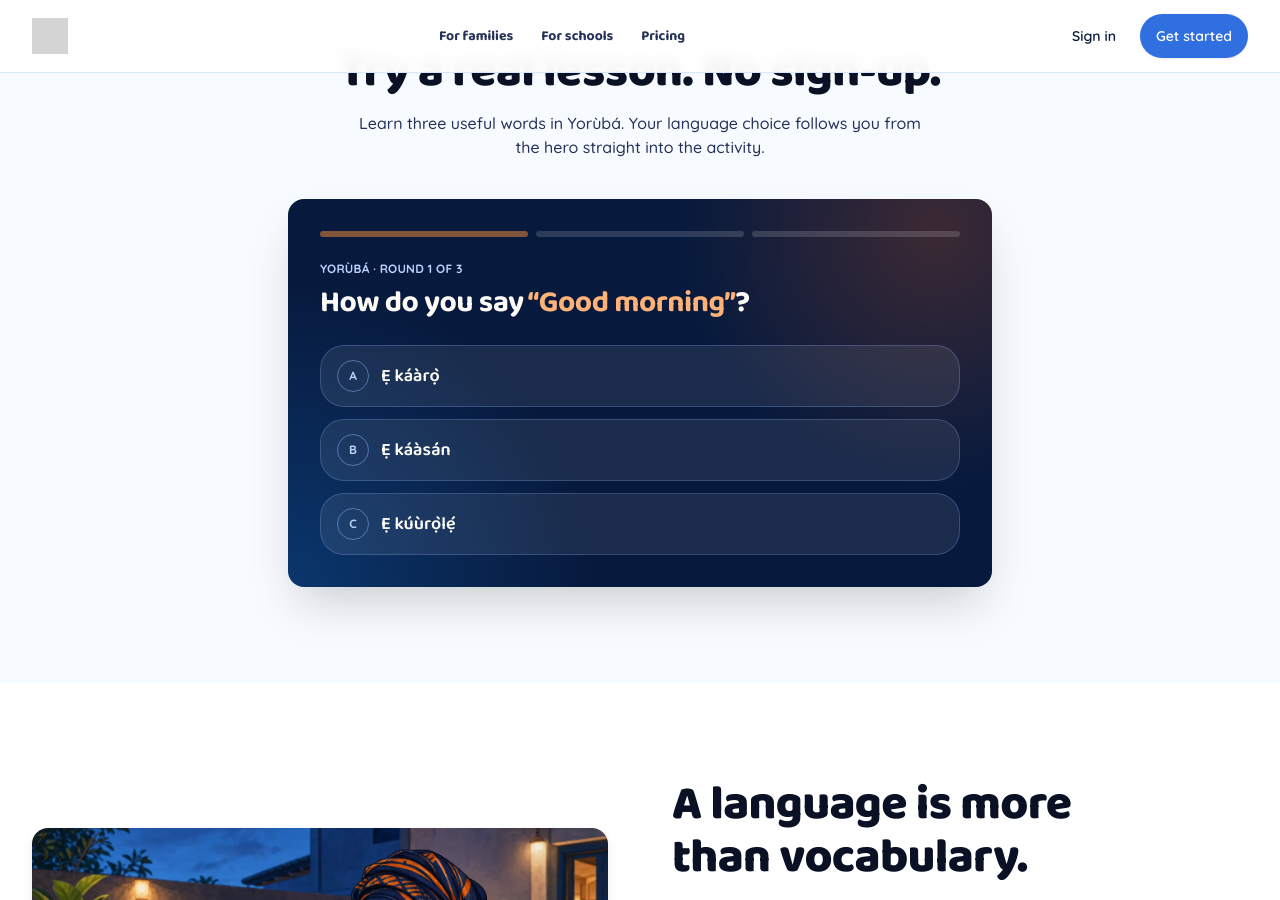
Scenario: LandingPage › softens an incorrect answer and still reveals the answer
The image size is (1280, 900).
(page scrolled)
Click the button "B Ẹ káàsán".
click(353, 450)  # box left=320, top=419, right=960, bottom=481
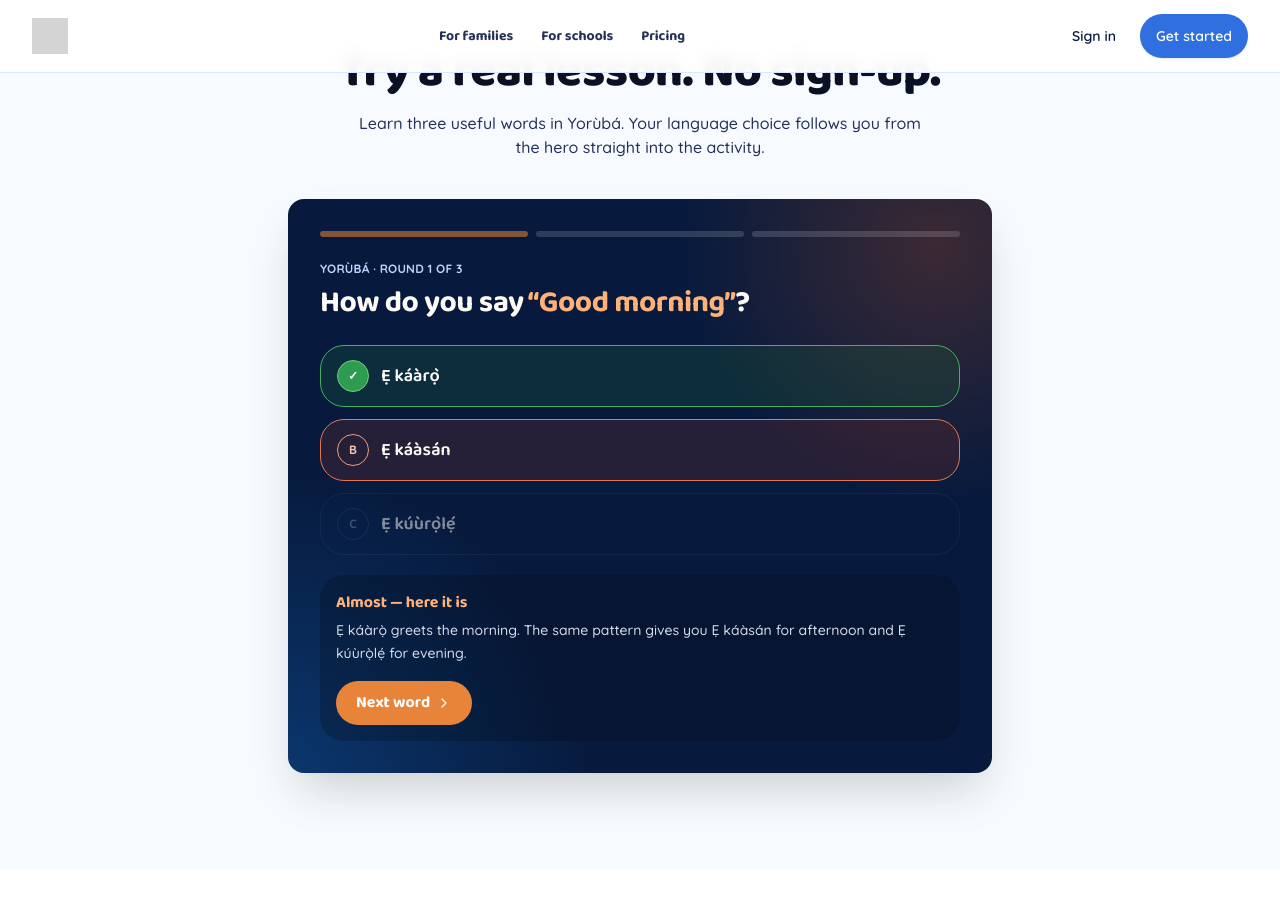
Result: the text "Almost — here it is" is shown at left=336, top=590, right=468, bottom=615
Result: the text "Ẹ káàrọ̀ greets the morning. The same pattern gives you Ẹ káàsán for afternoon and Ẹ kúùrọ̀lẹ́ for evening." is shown at left=336, top=621, right=906, bottom=662
